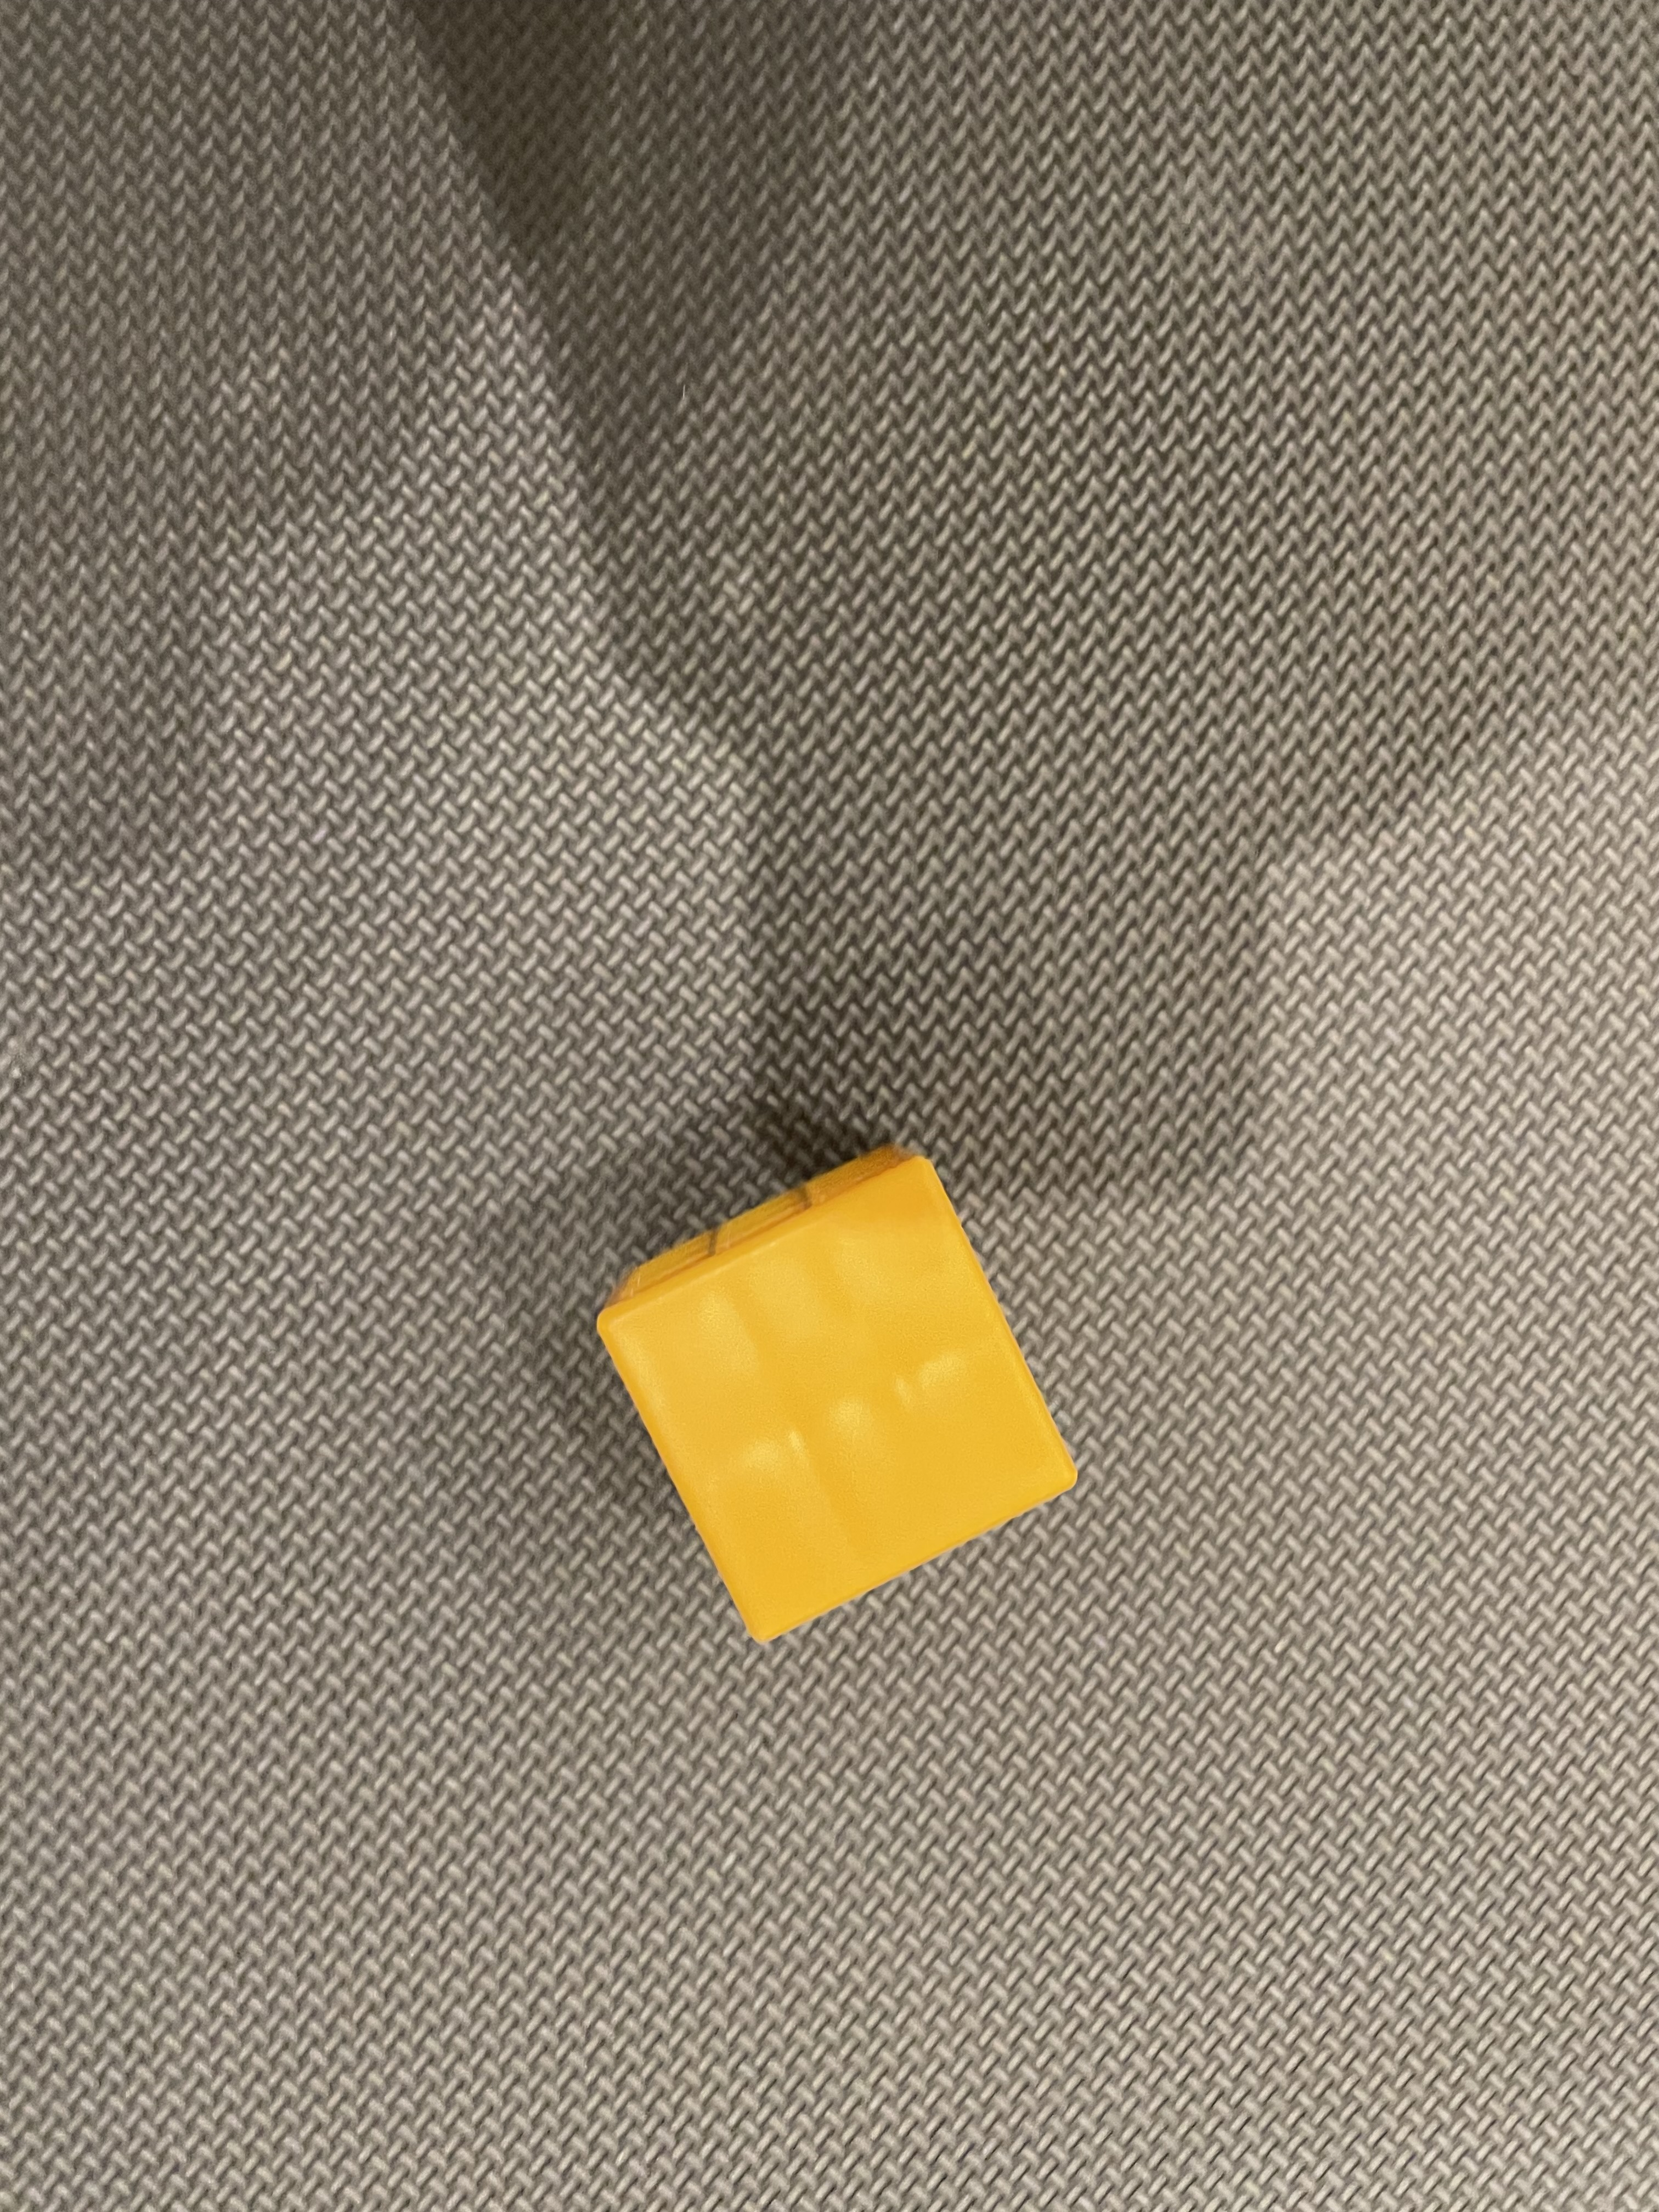cube: (514, 1101, 1126, 1691)
